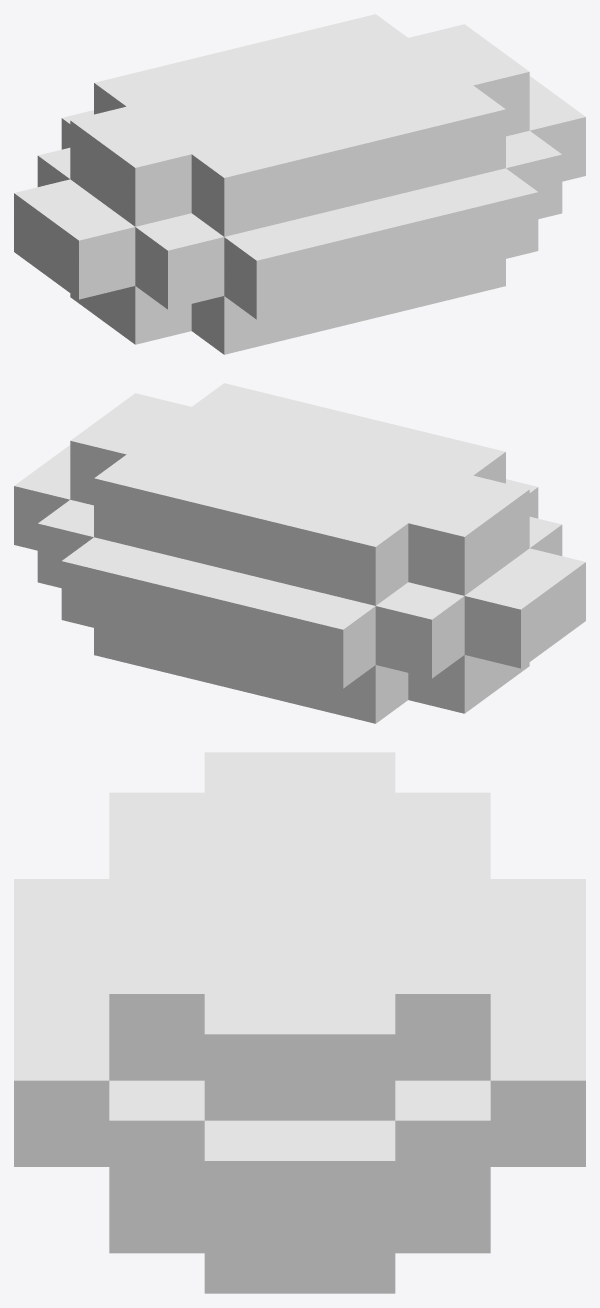
File: saponetta.gltf
The picture shows the model from 3 angles, top to bottom: view 1: azimuth 30°, elevation 25°; view 2: azimuth 150°, elevation 25°; view 3: azimuth 270°, elevation 25°; orthographic projection. The views are drawn at different scales.
Visible parts, largest first — view 1: Layer.1; view 2: Layer.1; view 3: Layer.1.
Boxes of the visible parts, x1,y1,x2,y2 form: Layer.1: (14, 14, 585, 354); Layer.1: (14, 383, 585, 723); Layer.1: (14, 752, 585, 1293).
Size of the model in its own units: 9 by 3 by 6.
Materials: 1 (1 with a texture image).
